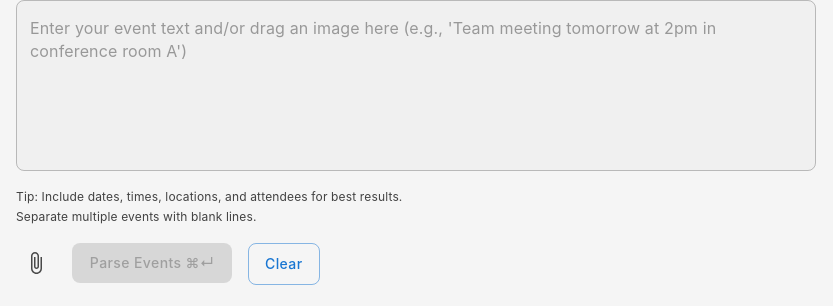
TextInputForm › form interaction › should clear form when Clear button is clicked
Type "Some text" into the text box.
click(416, 86); type("Some text")  # box top-left (30, 16), bottom-right (802, 154)
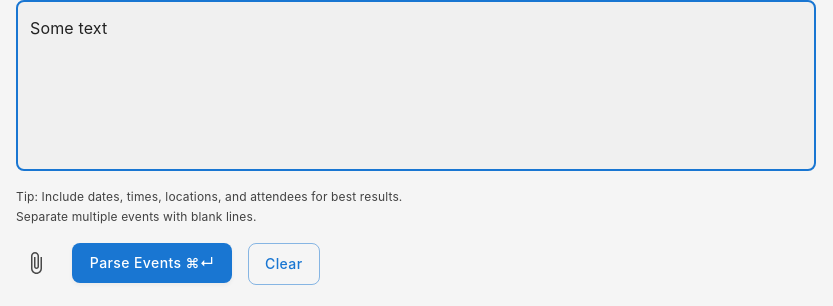
Click the button "Clear".
click(284, 264)  # box top-left (248, 243), bottom-right (320, 285)
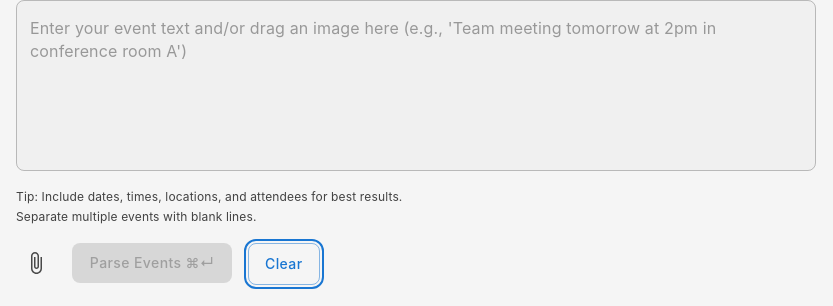
Now the text box is empty, box top-left (30, 16), bottom-right (802, 154)
